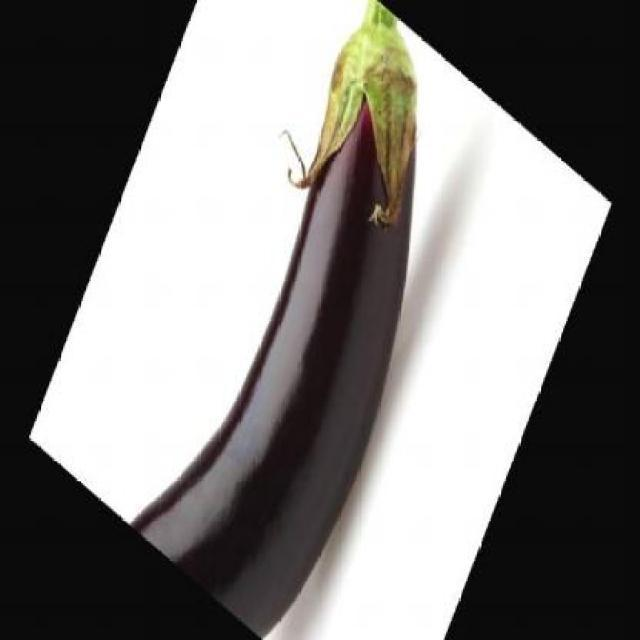eggplant: (119, 0, 422, 639)
